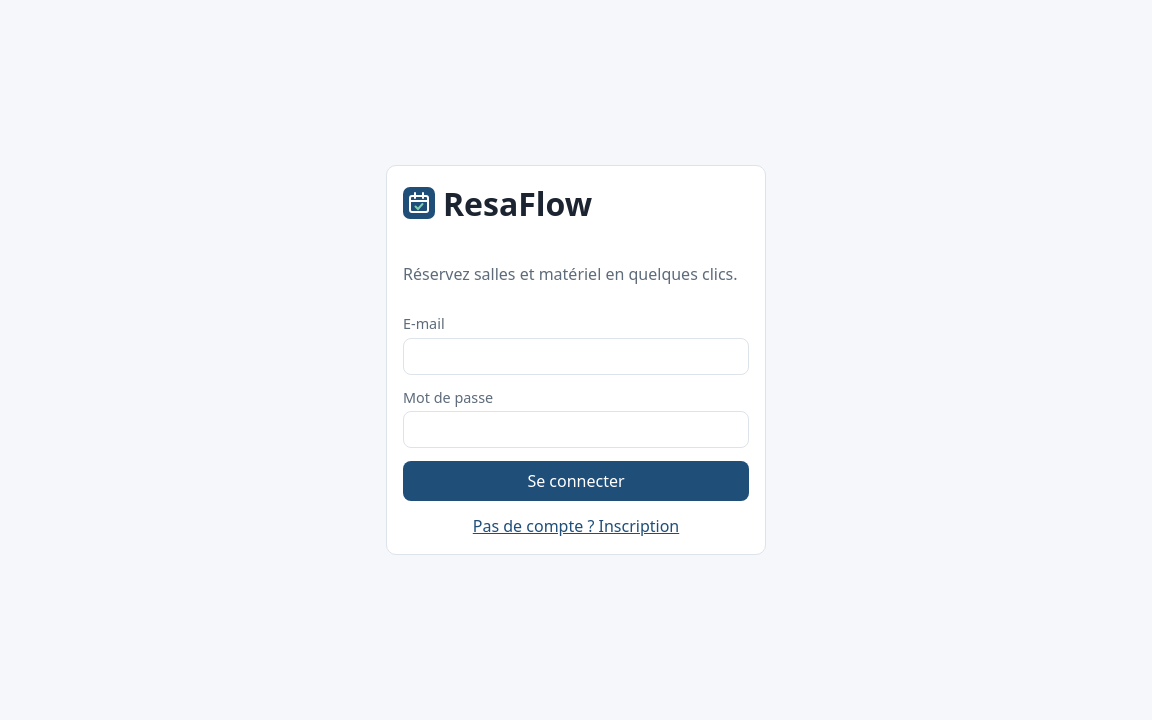
it: authentification › se connecte puis affiche les ressources
The image size is (1152, 720).
Type "a@b.fr" into the field labelled "E-mail" at (576, 356), box [403,338,749,375]
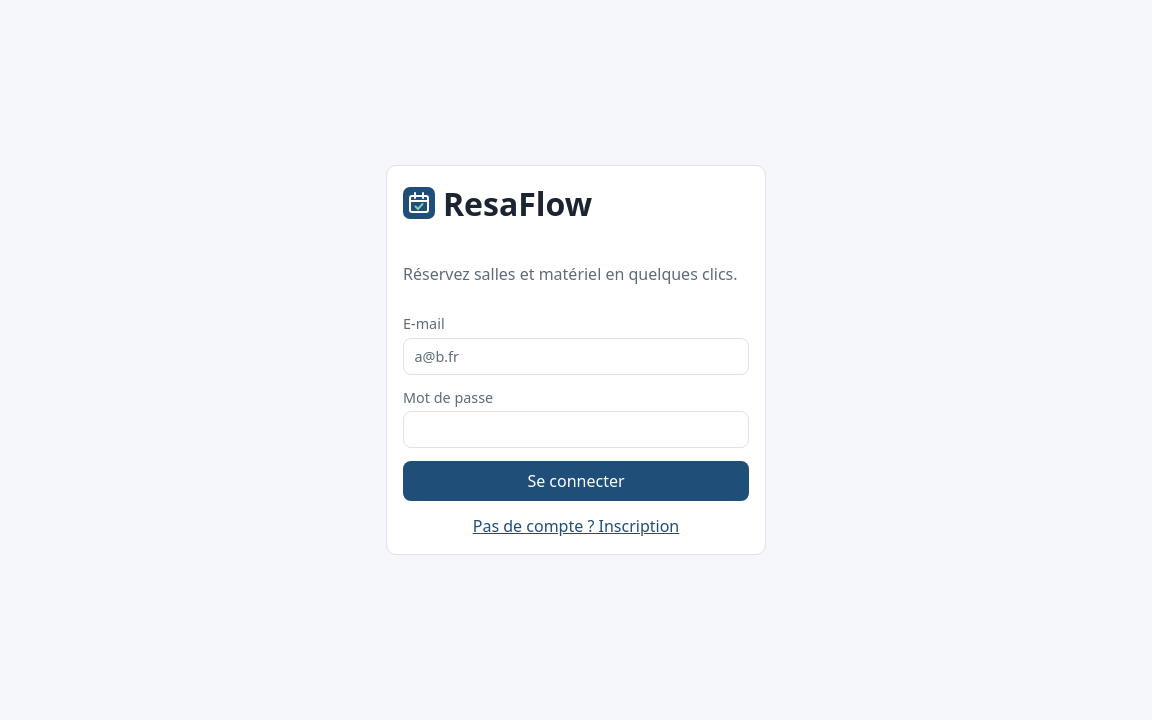
Type "secret-long" into the password field labelled "Mot de passe" at (576, 430), box [403,412,749,448]
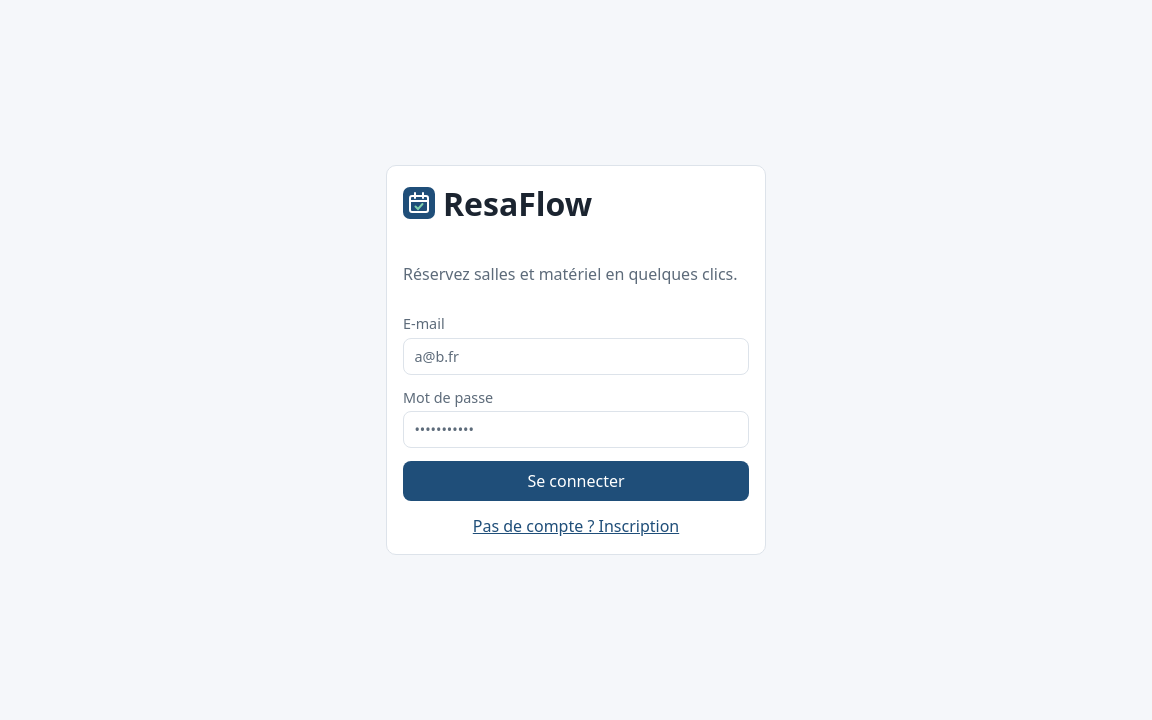
Click the button "Se connecter" at (576, 481), box [403,461,749,501]
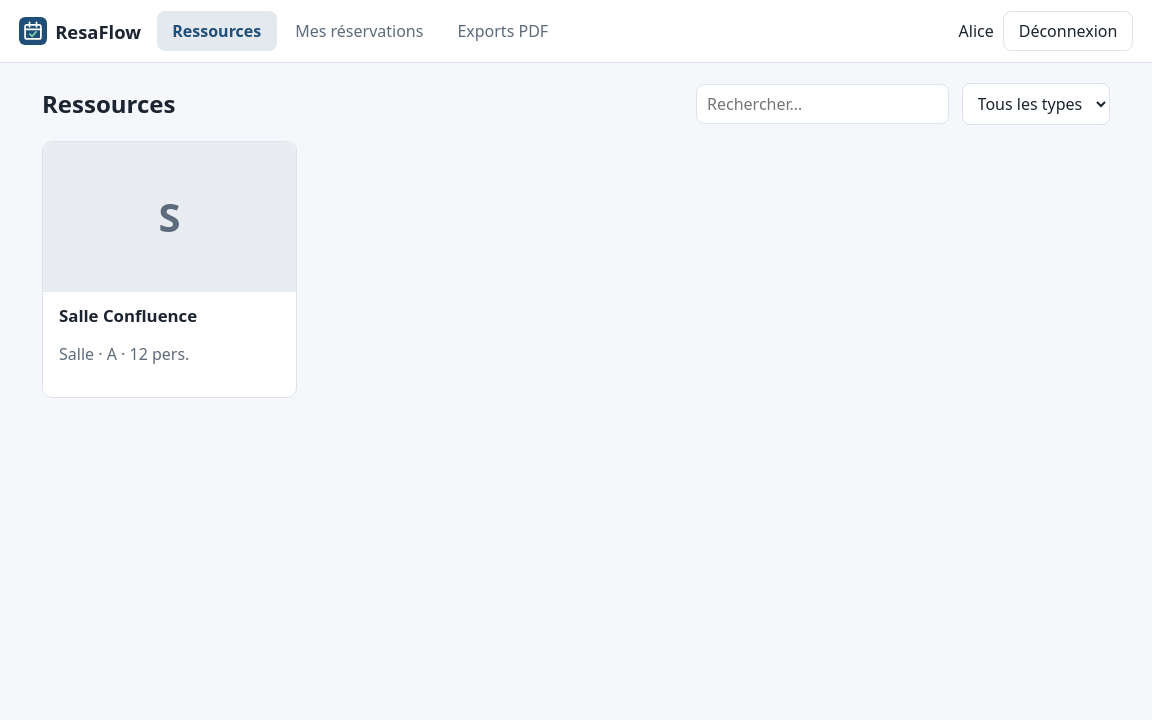
Expected: the heading "Salle Confluence" is shown, [59,304,197,327]
